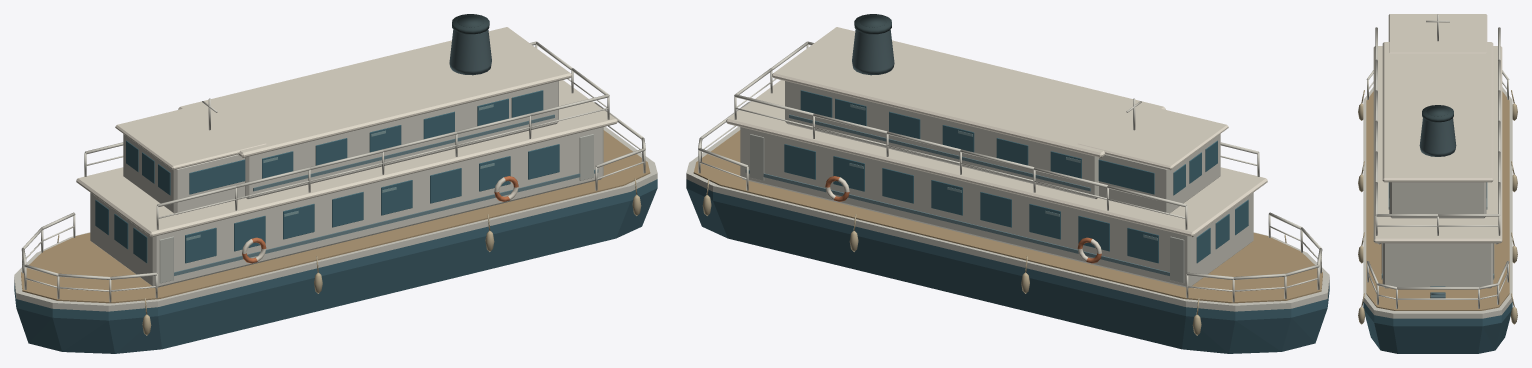
The model's file is ferry.glb.
3 renders of one model, left to right at view 1: azimuth 30°, elevation 25°; view 2: azimuth 150°, elevation 25°; view 3: azimuth 270°, elevation 25°, orthographic. The views are drawn at different scales.
Parts seen in each view (by area): view 1: ferry; view 2: ferry; view 3: ferry.
Part boxes in pixels (x1,y1,x2,y2): ferry: (14, 14, 657, 353); ferry: (686, 14, 1329, 353); ferry: (1358, 14, 1517, 353).
Bounding box in the file's own units: 25 × 8.69 × 6.64.
